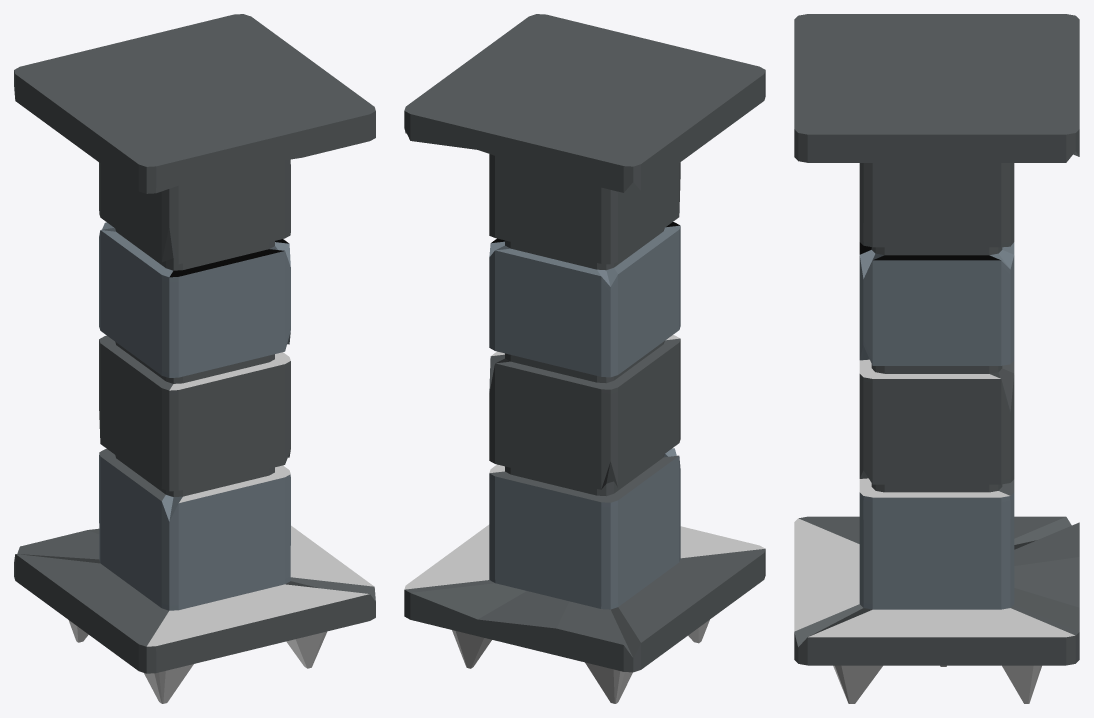
The model's file is Press.fbx.
3 renders of one model, left to right at view 1: azimuth 30°, elevation 25°; view 2: azimuth 150°, elevation 25°; view 3: azimuth 270°, elevation 25°, orthographic. The views are drawn at different scales.
Visible parts, largest first — view 1: Cube; view 2: Cube; view 3: Cube.
Boxes of the visible parts, x1,y1,x2,y2 form: Cube: (14, 14, 375, 703); Cube: (404, 14, 765, 703); Cube: (794, 14, 1079, 703).
Size of the model in its own units: 698 by 1596 by 698.
1 material, 1 textured.
